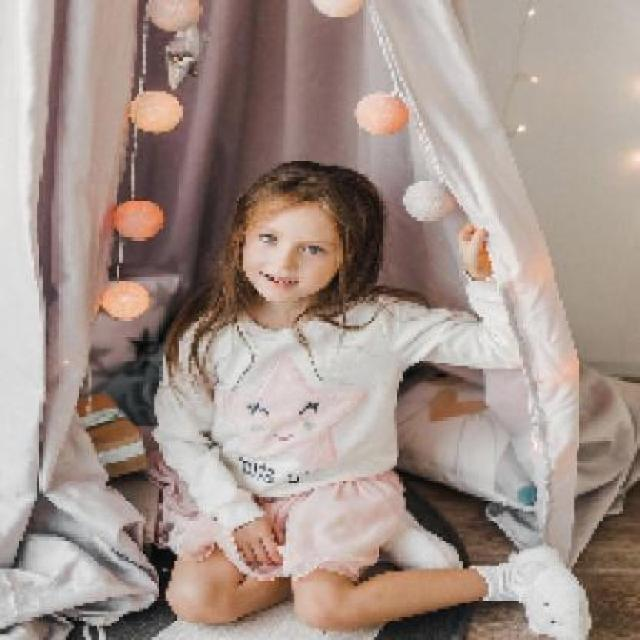child: (152, 160, 588, 637)
